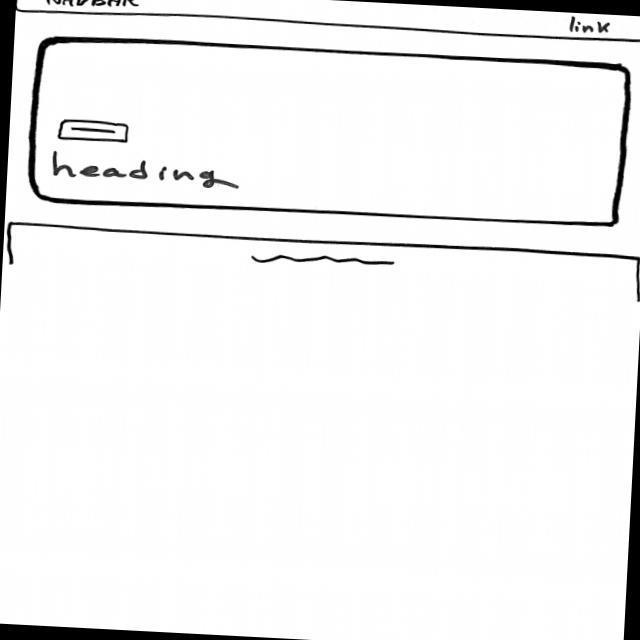container: (24, 33, 635, 234), (16, 1, 640, 46)
icon-button: (57, 118, 134, 145)
label: (52, 152, 240, 192), (43, 1, 145, 11), (569, 17, 615, 36)
text: (249, 250, 399, 272)
